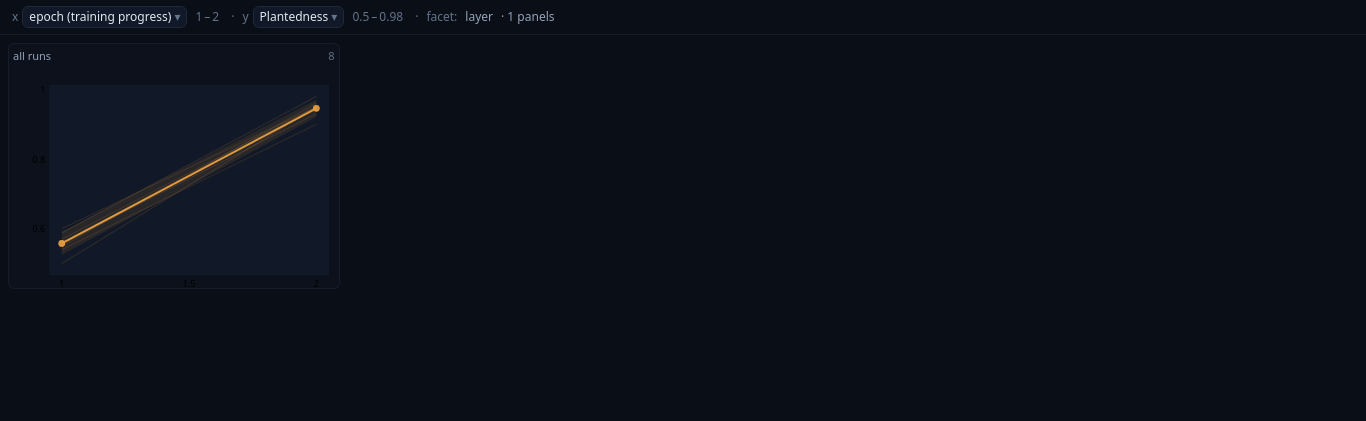
Test: group plot toolbar axis pickers › picking a y metric writes store.plot.y and the picker follows
The width and height of the screenshot is (1366, 421).
Click the button with aria-label "y metric" at (298, 17), box [253,6,344,28]
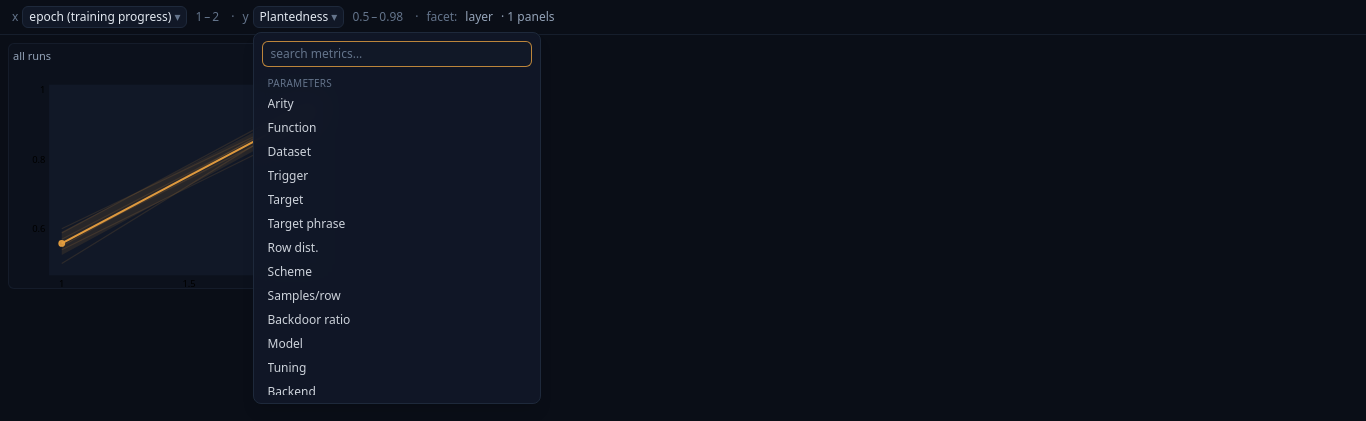
Type "asr" into the field with placeholder "search metrics…" at (397, 54), box [262,41,532,67]
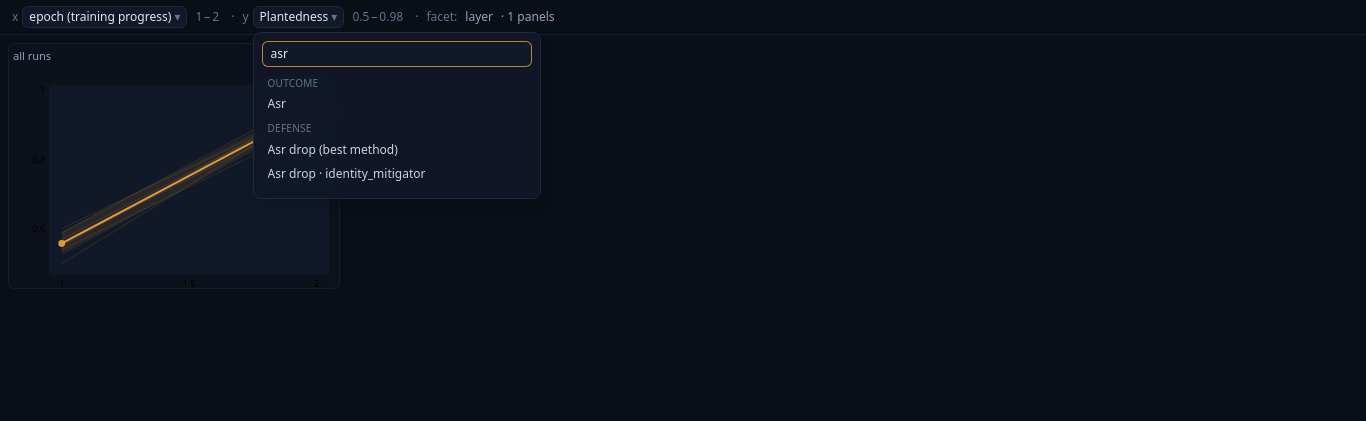
Click the button "Asr" at (277, 104), box [262,92,532,116]
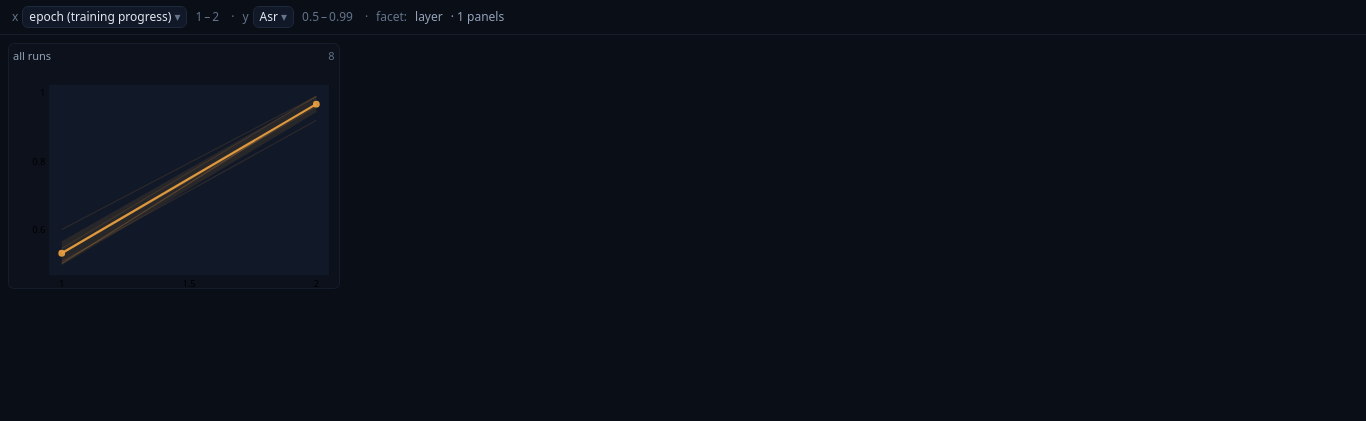
Expected: the button with aria-label "y metric" shows "Asr", [253,6,294,28]
